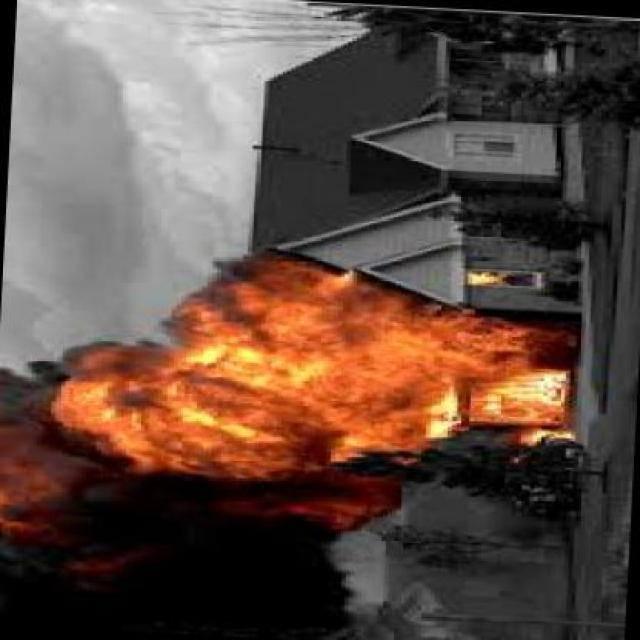Fire: (26, 254, 582, 471)
Smoke: (0, 481, 438, 640), (3, 336, 56, 456)
